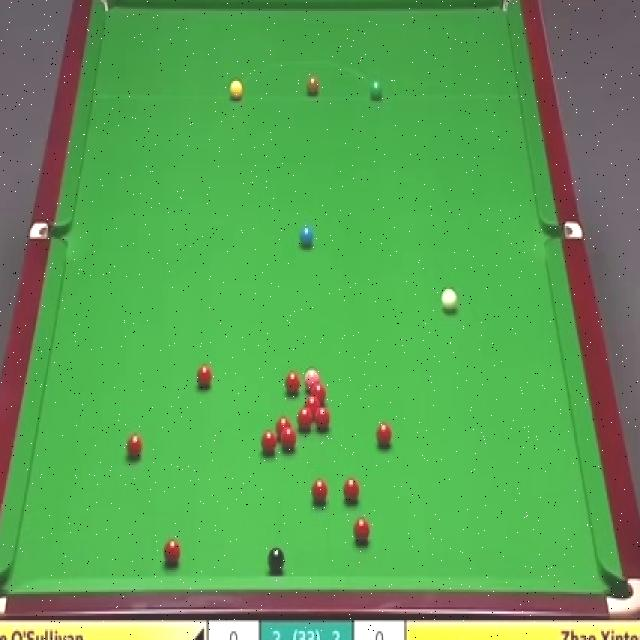black-ball: (267, 544, 285, 574)
blue-ball: (298, 224, 314, 250)
brown-ball: (306, 77, 318, 97)
green-ball: (370, 80, 382, 100)
pink-ball: (304, 368, 321, 387)
red-ball: (352, 517, 371, 546), (125, 434, 142, 464), (284, 370, 302, 398), (164, 539, 182, 566), (376, 423, 394, 448), (342, 478, 360, 502), (281, 426, 298, 451), (312, 479, 329, 503), (196, 363, 212, 388), (261, 430, 277, 453), (296, 408, 313, 428), (275, 414, 291, 434), (303, 395, 322, 410), (315, 408, 330, 427), (310, 384, 329, 397)
white-ball: (440, 286, 458, 316)
yellow-ball: (229, 78, 244, 101)
